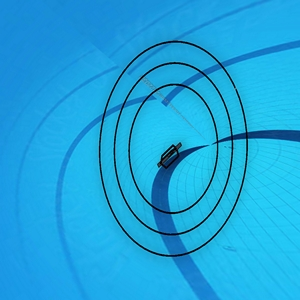circle: (94, 34, 254, 262)
submarine: (156, 143, 189, 169)
